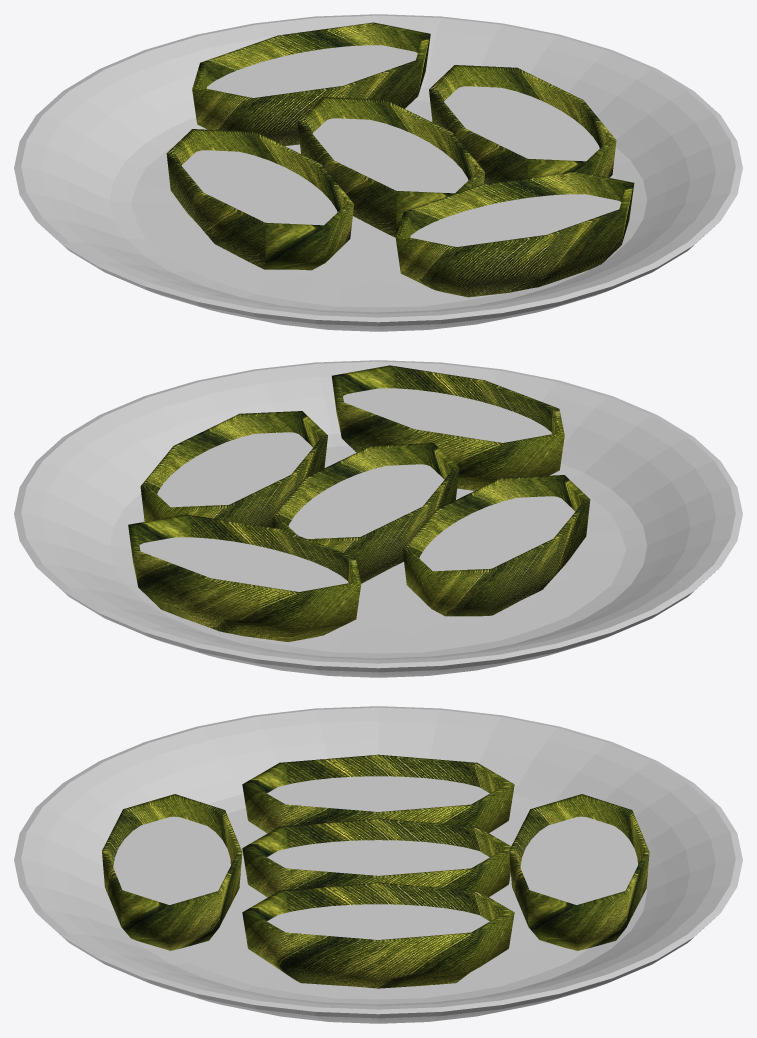
Rendered from kue jongkong.obj.
The picture shows the model from 3 angles, top to bottom: view 1: azimuth 30°, elevation 25°; view 2: azimuth 150°, elevation 25°; view 3: azimuth 270°, elevation 25°; orthographic projection.
Parts seen in each view (by area): view 1: Cylinder, Cube.003, Cube.004, Cube.002, Cube.001, Cube, Cylinder.001, Cylinder.003, Cylinder.002, Cylinder.004, Cylinder.005; view 2: Cylinder, Cube.004, Cube.003, Cube.002, Cube.001, Cube, Cylinder.001, Cylinder.003, Cylinder.002, Cylinder.005, Cylinder.004; view 3: Cylinder, Cube, Cube.002, Cube.001, Cube.004, Cube.003, Cylinder.004, Cylinder.005, Cylinder.003, Cylinder.002, Cylinder.001.
Part boxes in pixels (x1,y1,x2,y2): Cylinder: (14, 14, 742, 331); Cube.003: (395, 171, 634, 297); Cube.004: (192, 22, 430, 145); Cube.002: (166, 129, 354, 270); Cube.001: (297, 97, 484, 237); Cube: (429, 65, 616, 183); Cylinder.001: (444, 86, 599, 161); Cylinder.003: (181, 150, 337, 225); Cylinder.002: (312, 118, 468, 193); Cylinder.004: (410, 194, 621, 246); Cylinder.005: (206, 45, 417, 97); Cylinder: (14, 360, 742, 677); Cube.004: (128, 514, 361, 641); Cube.003: (331, 365, 564, 490); Cube.002: (402, 475, 590, 616); Cube.001: (272, 443, 459, 583); Cube: (140, 411, 327, 527); Cylinder.001: (157, 432, 312, 507); Cylinder.003: (419, 496, 575, 571); Cylinder.002: (288, 464, 444, 538); Cylinder.005: (139, 537, 348, 591); Cylinder.004: (343, 388, 551, 442); Cylinder: (14, 706, 742, 1023); Cube: (242, 882, 514, 988); Cube.002: (242, 754, 514, 833); Cube.001: (242, 818, 510, 897); Cube.004: (509, 794, 649, 950); Cube.003: (102, 794, 242, 950); Cylinder.004: (113, 816, 230, 904); Cylinder.005: (520, 816, 637, 904); Cylinder.003: (267, 776, 489, 811); Cylinder.002: (267, 840, 489, 875); Cylinder.001: (267, 904, 489, 939).
Size of the model in its own units: 2.31 by 0.2791 by 2.31.
